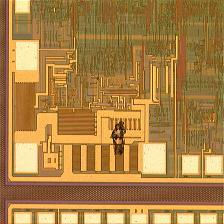PARTICLE: (110, 119, 131, 157)
